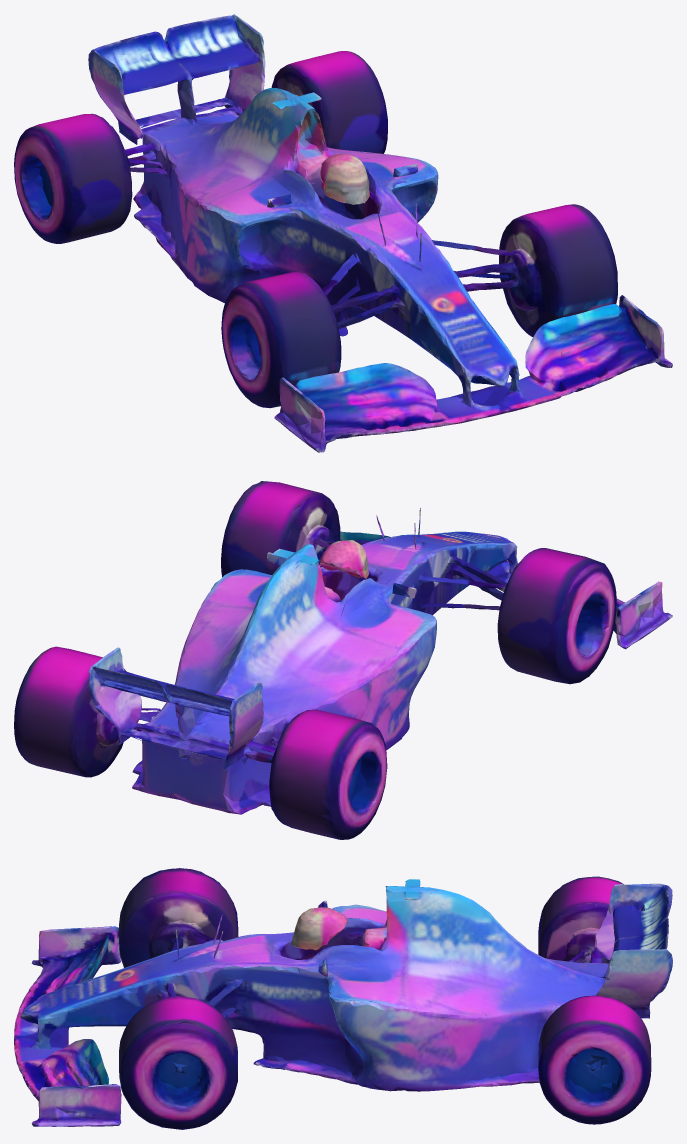
The picture shows the model from 3 angles, top to bottom: view 1: azimuth 30°, elevation 25°; view 2: azimuth 150°, elevation 25°; view 3: azimuth 270°, elevation 25°; orthographic projection. The views are drawn at different scales.
Parts seen in each view (by area): view 1: panel_trunk, body, panel_bumper_f, wheel_front_L, wheel_front_R, wheel_rear_L, panel_hood, panel_roof, panel_bumper_r, wheel_rear_R, panel_door_L, panel_door_R; view 2: panel_trunk, body, panel_bumper_f, panel_bumper_r, wheel_rear_L, wheel_front_L, panel_hood, wheel_rear_R, panel_roof, wheel_front_R; view 3: panel_trunk, panel_bumper_f, body, panel_roof, wheel_rear_R, wheel_front_R, wheel_front_L, panel_hood, panel_bumper_r, panel_door_R, wheel_rear_L.
Boxes of the visible parts, <box> form: panel_trunk: <box>24,14,438,303</box>; body: <box>133,107,638,432</box>; panel_bumper_f: <box>221,210,617,407</box>; wheel_front_L: <box>229,249,435,452</box>; wheel_front_R: <box>427,203,672,387</box>; wheel_rear_L: <box>14,128,245,296</box>; panel_hood: <box>232,203,608,327</box>; panel_roof: <box>267,89,417,218</box>; panel_bumper_r: <box>27,66,386,214</box>; wheel_rear_R: <box>271,61,430,221</box>; panel_door_L: <box>198,201,287,286</box>; panel_door_R: <box>393,166,438,222</box>; panel_trunk: <box>23,546,436,801</box>; body: <box>132,531,620,814</box>; panel_bumper_f: <box>221,490,616,683</box>; panel_bumper_r: <box>76,659,376,812</box>; wheel_rear_L: <box>269,726,387,839</box>; wheel_front_L: <box>488,581,672,684</box>; panel_hood: <box>233,481,607,628</box>; wheel_rear_R: <box>14,663,114,777</box>; panel_roof: <box>216,540,417,679</box>; wheel_front_R: <box>221,494,390,577</box>; panel_trunk: <box>332,876,672,1090</box>; panel_bumper_f: <box>20,868,347,1128</box>; body: <box>14,932,604,1090</box>; panel_roof: <box>291,879,537,976</box>; wheel_rear_R: <box>350,1010,651,1124</box>; wheel_front_R: <box>24,1011,237,1129</box>; wheel_front_L: <box>26,880,238,997</box>; panel_hood: <box>132,868,262,1038</box>; panel_bumper_r: <box>480,905,661,1071</box>; panel_door_R: <box>328,981,416,1081</box>; wheel_rear_L: <box>538,881,620,961</box>.
Size of the model in its own units: 2.37 by 1.13 by 4.
Materials: 1 (1 with a texture image).
